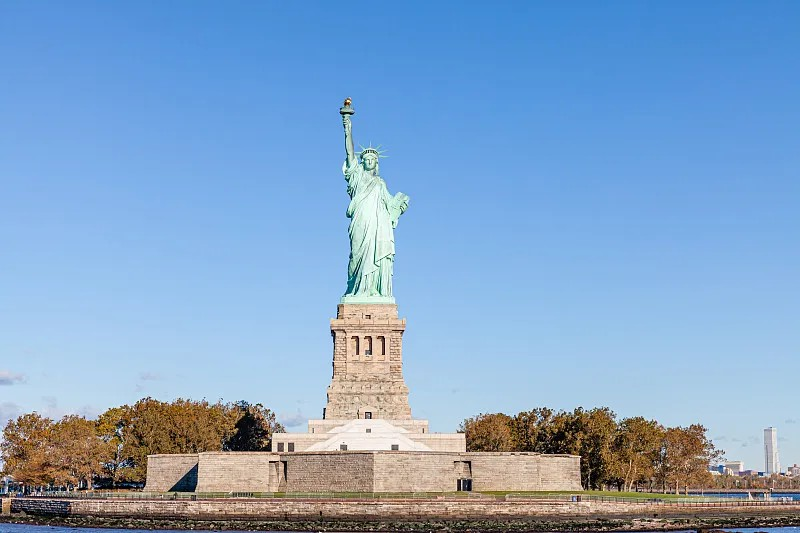SL: (322, 97, 412, 419)
